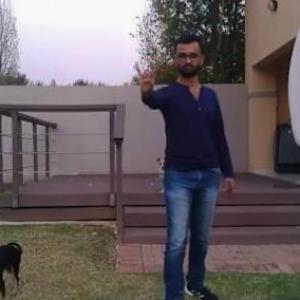takeoff-hand: (127, 54, 159, 95)
